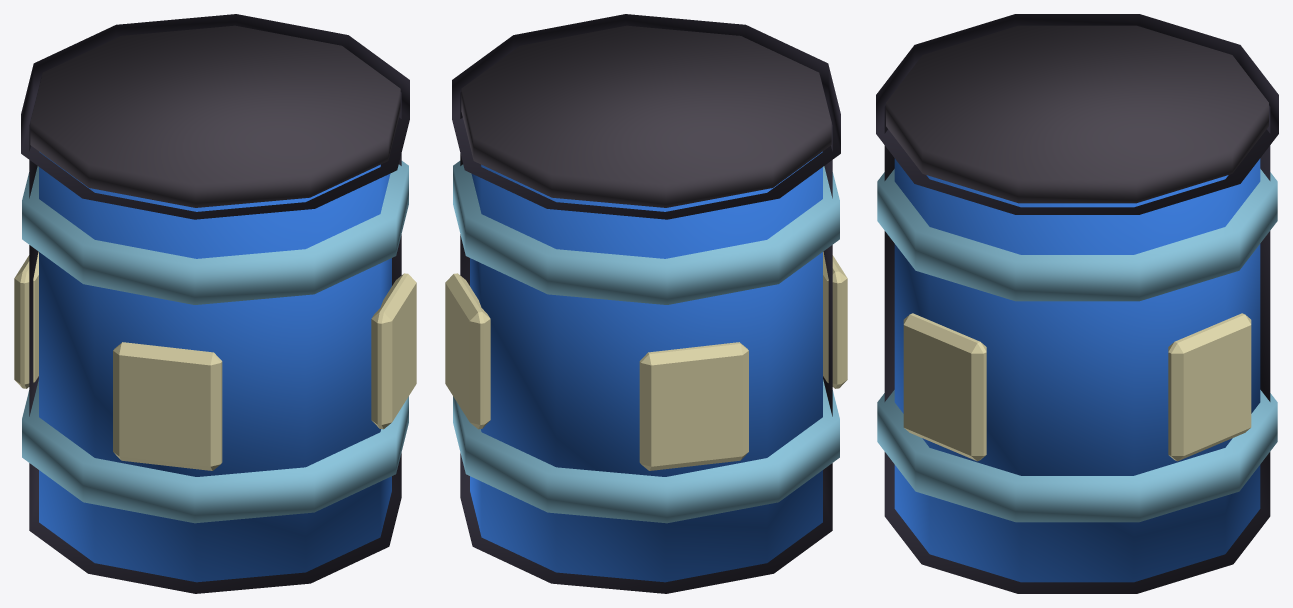
Rendered from barrel_shock.glb.
3 views of the same model, side by side, from view 1: azimuth 30°, elevation 25°; view 2: azimuth 150°, elevation 25°; view 3: azimuth 270°, elevation 25° (orthographic).
Parts seen in each view (by area): view 1: barrel_shock; view 2: barrel_shock; view 3: barrel_shock.
Part boxes in pixels (bbox=[...]): barrel_shock: bbox=[14, 14, 416, 593]; barrel_shock: bbox=[445, 14, 847, 593]; barrel_shock: bbox=[876, 14, 1278, 593].
Size of the model in its own units: 0.8806 by 1.07 by 0.9259.
